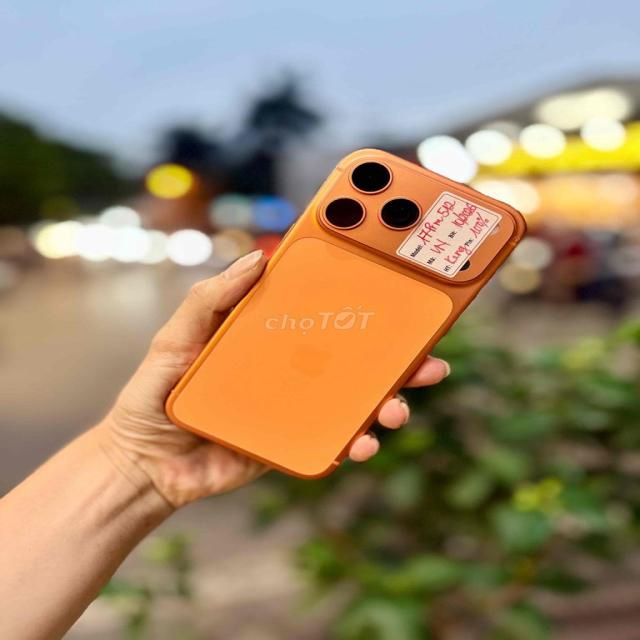gen_17: (162, 145, 534, 476)
